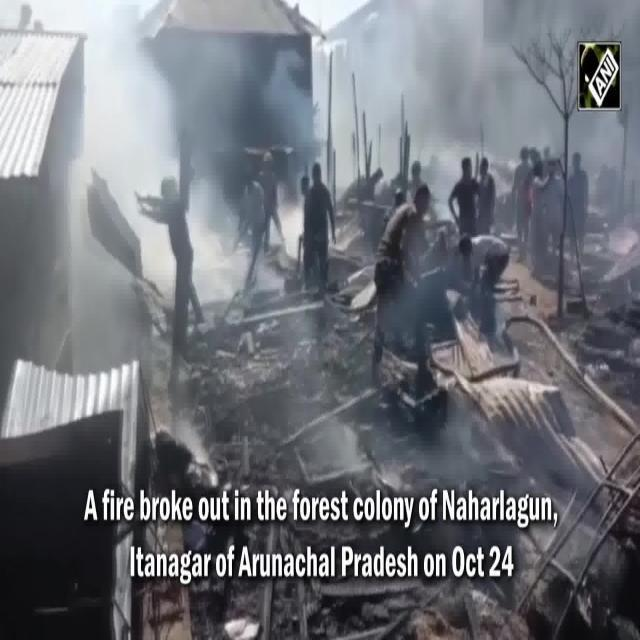Smoke: (46, 1, 329, 305)
